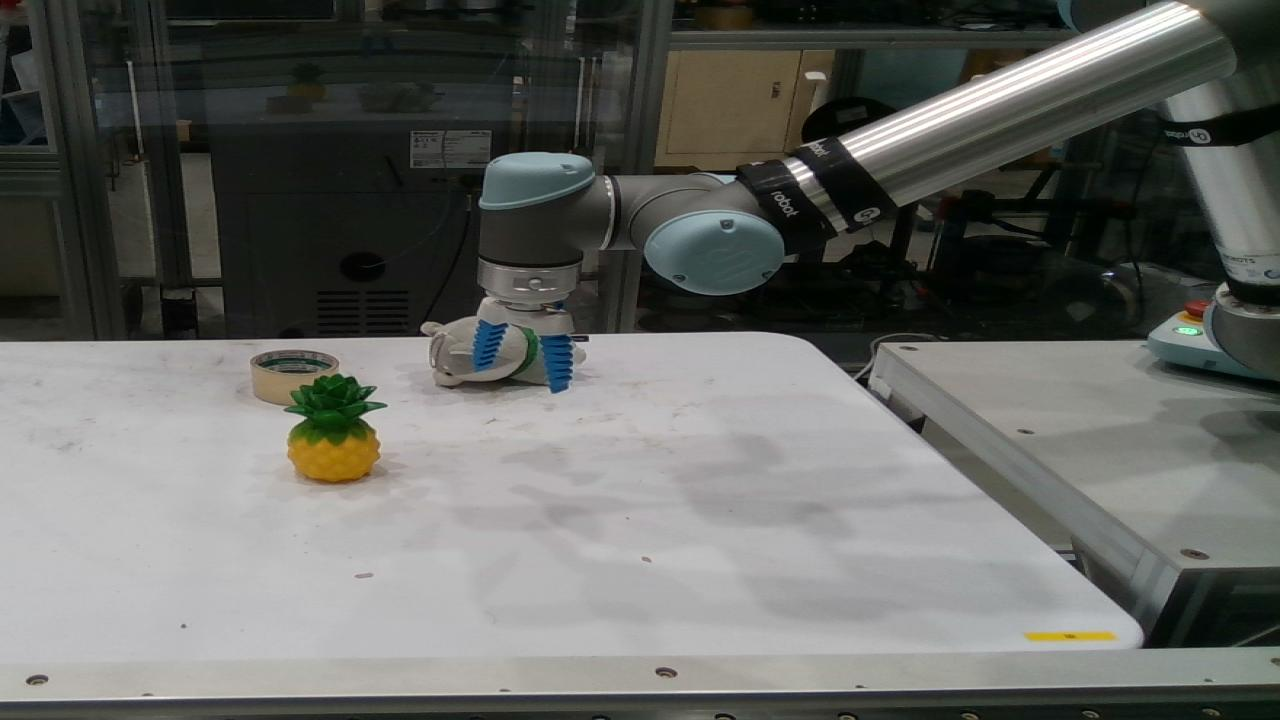UR5: (478, 0, 1270, 378)
gripper_left: (474, 322, 502, 369)
gripper_right: (542, 335, 570, 390)
target: (284, 375, 380, 480), (428, 321, 572, 391), (252, 351, 334, 404)
